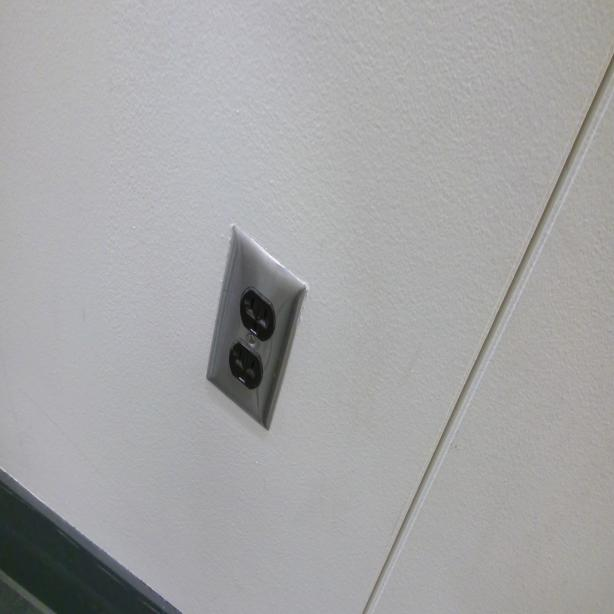typeb: (240, 287, 278, 339), (229, 339, 266, 389)
